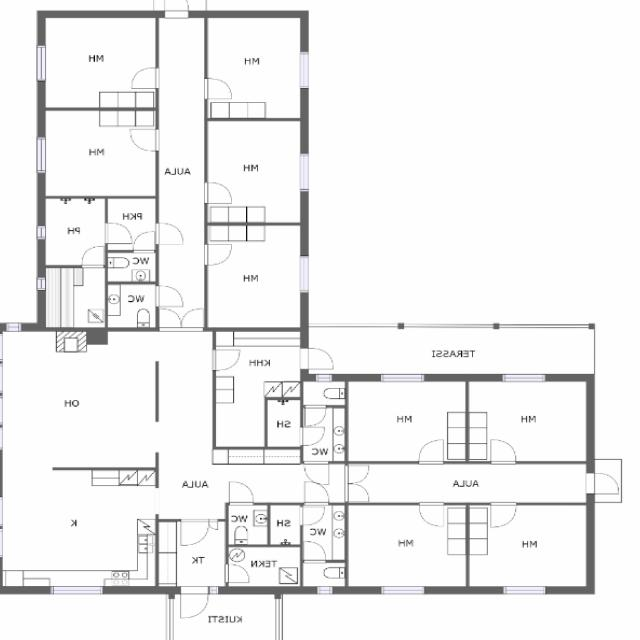door: (181, 586, 208, 616), (181, 518, 208, 545), (300, 347, 332, 368), (585, 473, 617, 493), (490, 502, 516, 526), (131, 129, 158, 151), (155, 222, 182, 244), (228, 481, 252, 505), (305, 481, 329, 505), (203, 78, 230, 99), (203, 182, 230, 203), (203, 244, 230, 265), (104, 222, 131, 243), (155, 286, 183, 306), (490, 440, 514, 463), (304, 461, 328, 484), (418, 440, 442, 463), (418, 502, 442, 525), (212, 350, 238, 370), (132, 68, 158, 88), (159, 308, 181, 331), (181, 308, 202, 331), (82, 246, 104, 267), (304, 541, 325, 562), (164, 0, 188, 18), (225, 564, 249, 582), (300, 506, 324, 524), (304, 405, 325, 425), (133, 231, 153, 252), (344, 465, 367, 483), (344, 483, 367, 501), (300, 427, 322, 444), (208, 518, 217, 528)
